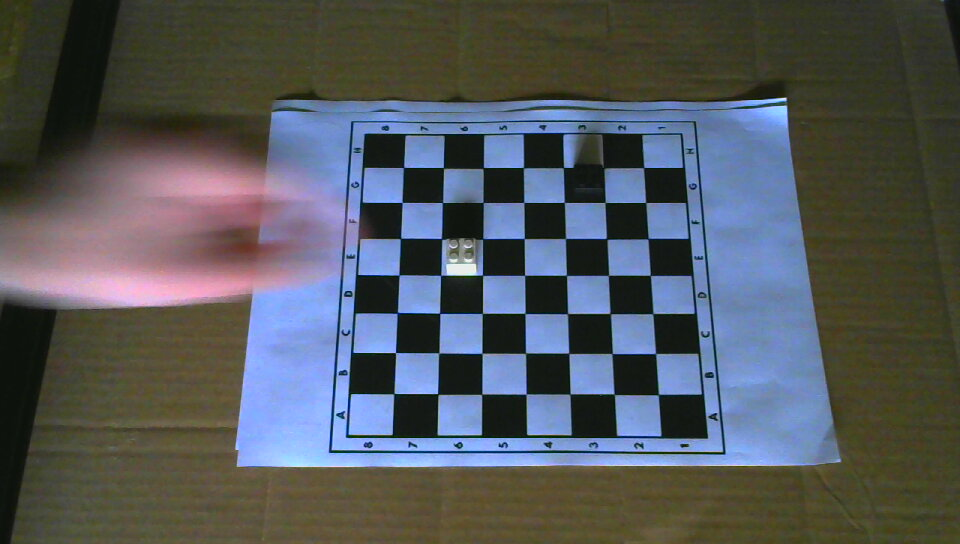bp: (567, 160, 607, 200)
wp: (443, 234, 478, 276)
